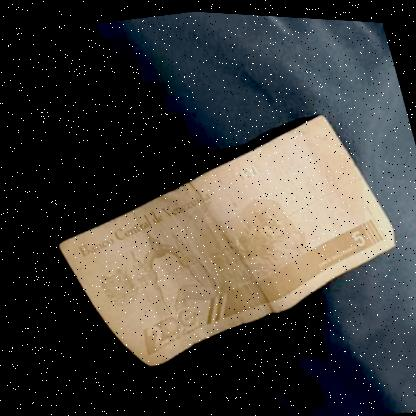five-back-vef: (22, 87, 416, 387)
